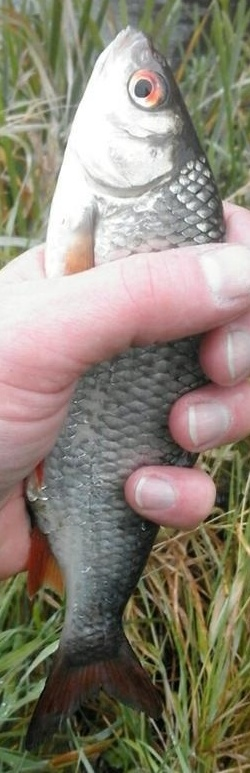Rutilus rutilus: (20, 20, 230, 753)
